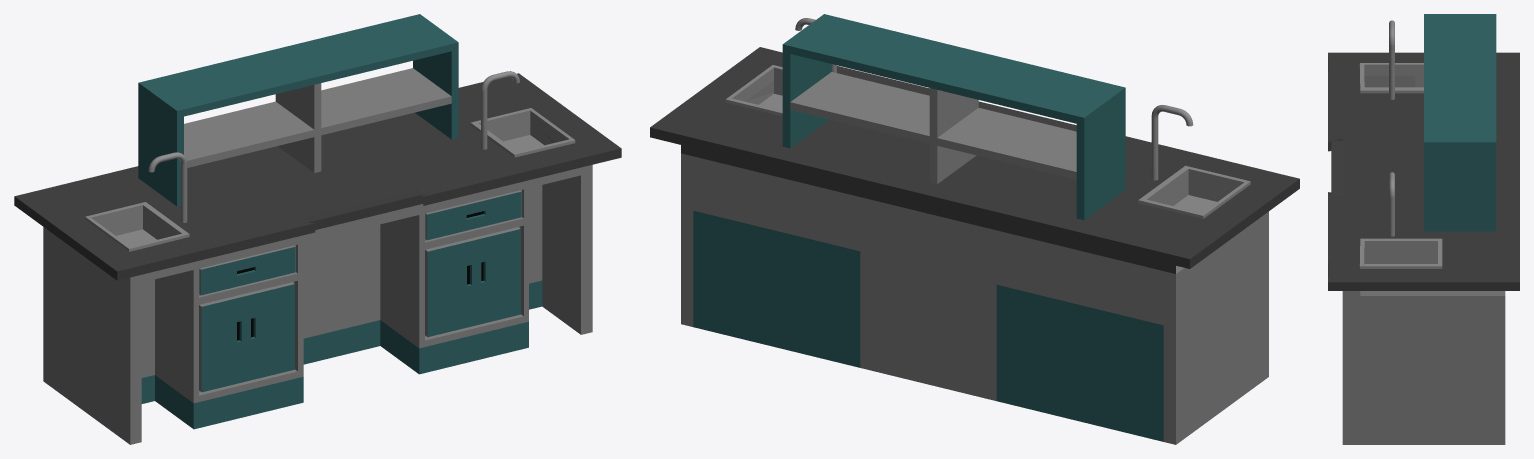
Rendered from ChemistryLabTable.fbx.
3 renders of one model, left to right at view 1: azimuth 30°, elevation 25°; view 2: azimuth 150°, elevation 25°; view 3: azimuth 270°, elevation 25°, orthographic. The views are drawn at different scales.
Visible parts, largest first — view 1: group1_pasted__pasted__pTorus2; view 2: group1_pasted__pasted__pTorus2; view 3: group1_pasted__pasted__pTorus2.
Boxes of the visible parts, x1,y1,x2,y2 form: group1_pasted__pasted__pTorus2: (14, 14, 621, 444); group1_pasted__pasted__pTorus2: (650, 14, 1299, 444); group1_pasted__pasted__pTorus2: (1328, 14, 1519, 444).
Bounding box in the file's own units: 54.54 × 28.93 × 19.24.
